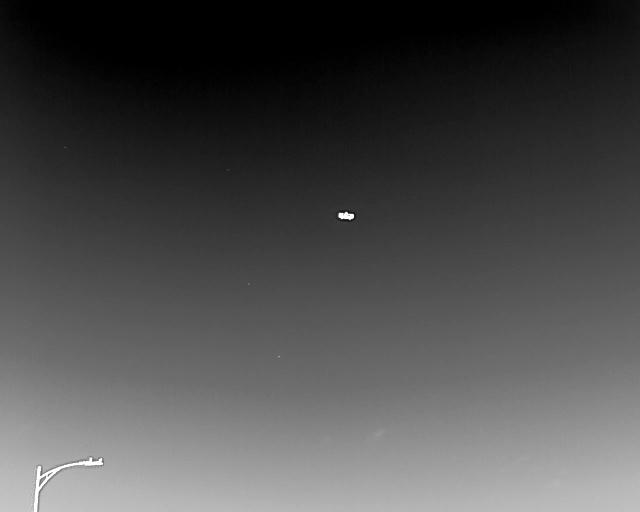fpv-drone: (335, 209, 355, 222)
